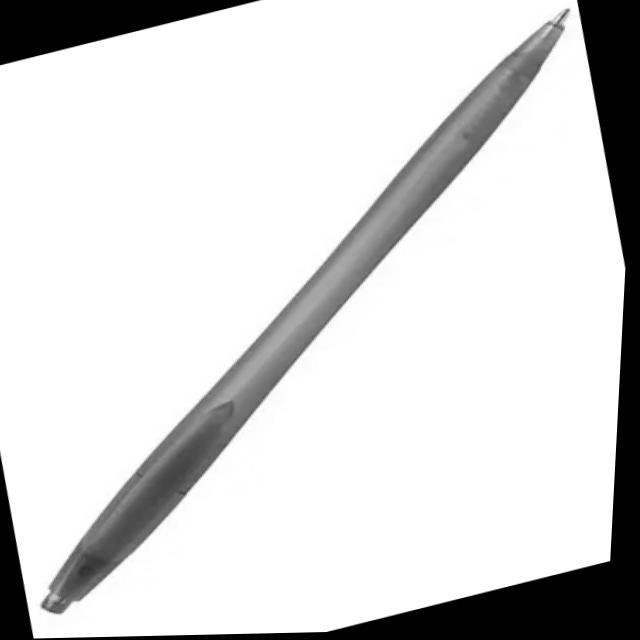pencil: (23, 4, 577, 618)
